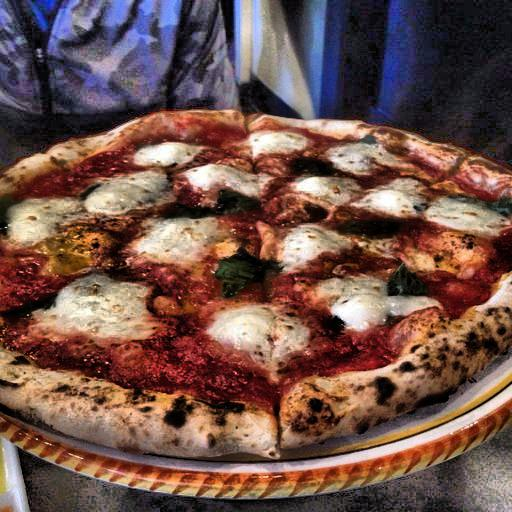pizza: (1, 97, 512, 491)
